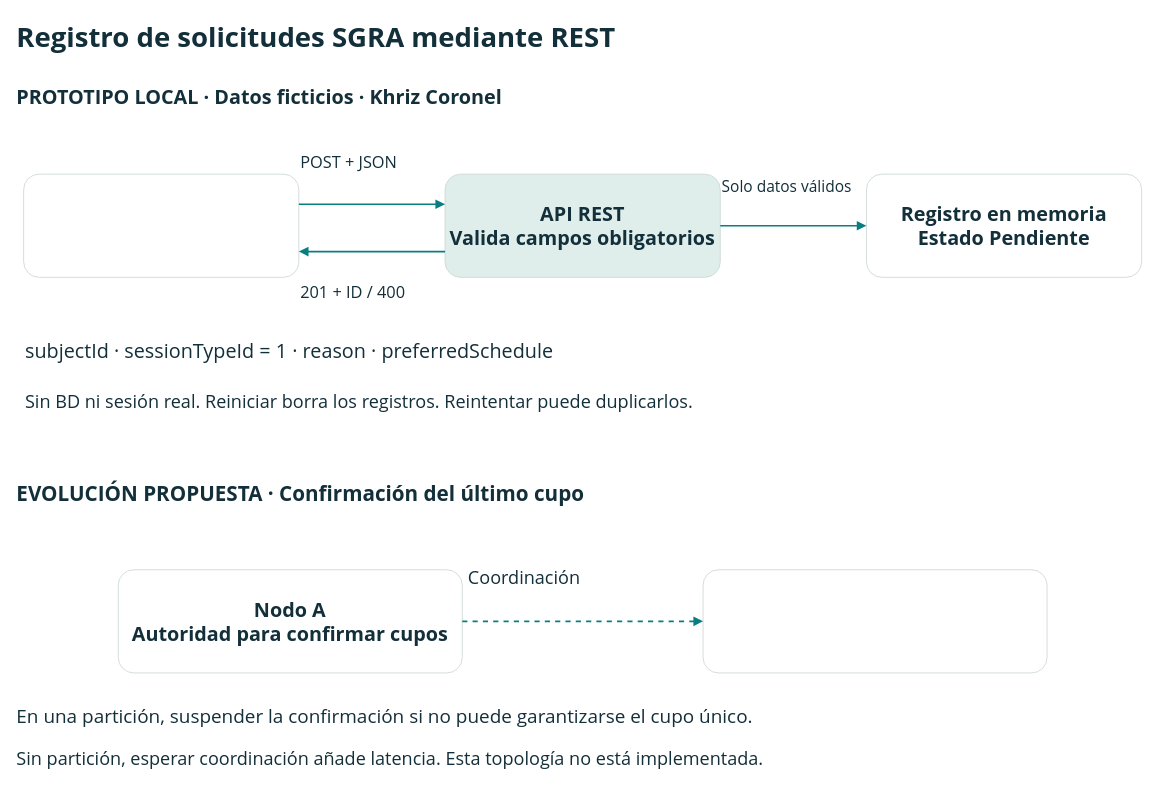
The diagram is 1164 pixels wide and 790 high, and some of its shapes have lost their labels. Each missing label, with the centre of its shape:
Cliente externo Envía solicitud individual: the point at 161,225
Nodo B Coordina la misma decisión: the point at 874,621
